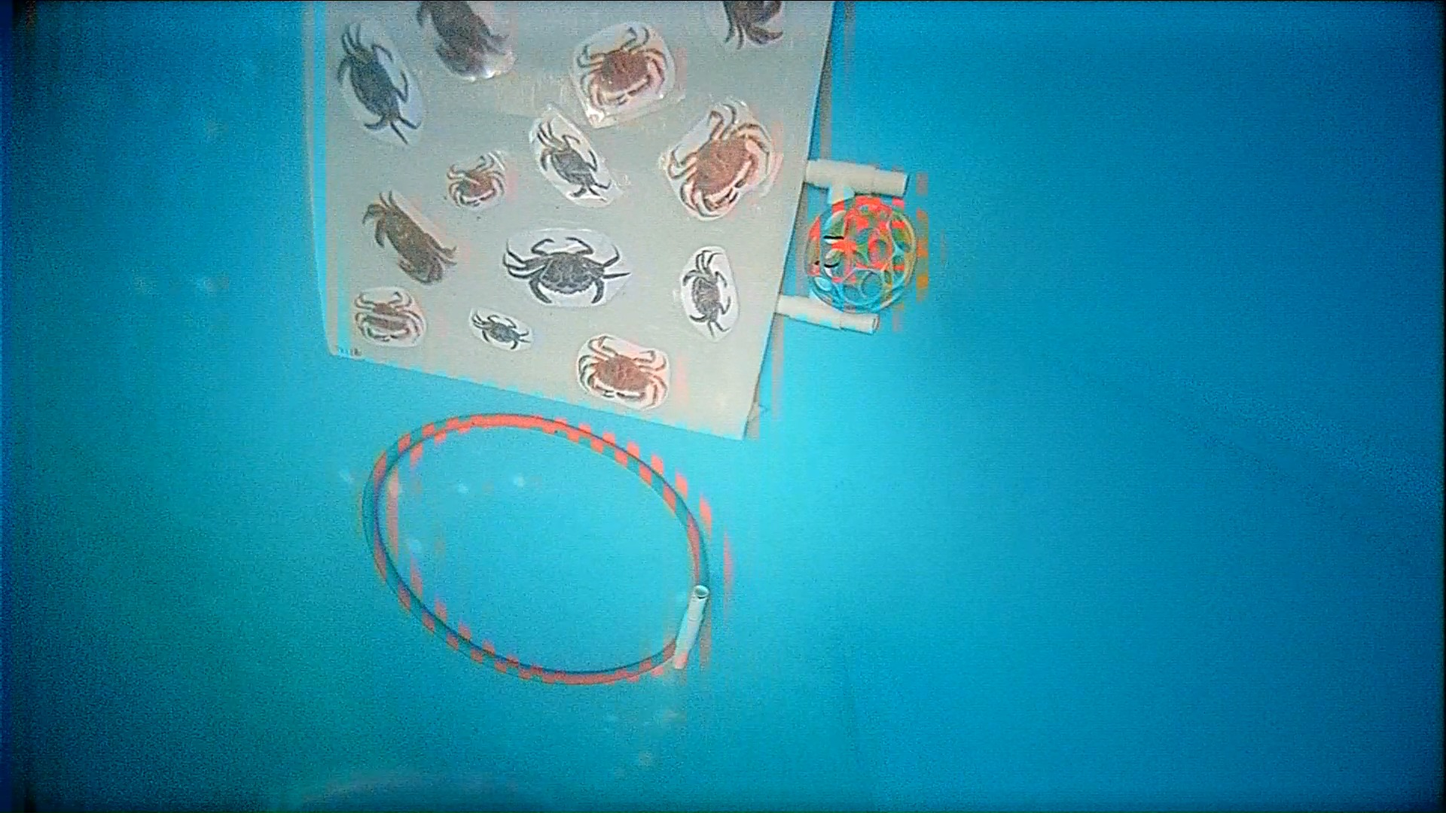GreenCrab: (337, 25, 418, 143), (503, 237, 628, 303), (682, 249, 730, 337), (473, 313, 529, 350)
